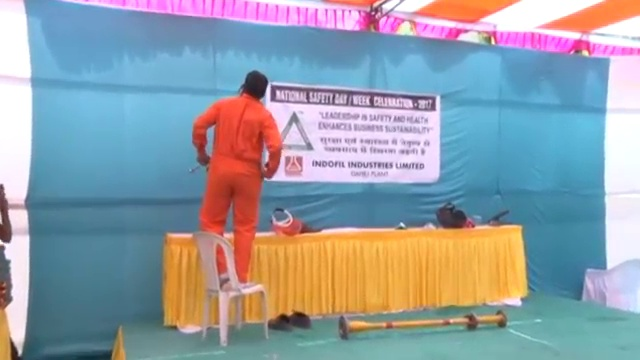helmet_off: (237, 68, 266, 100)
person: (189, 68, 287, 286)
